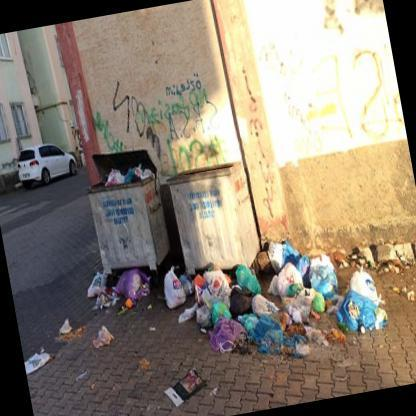Garbage: (146, 254, 278, 333), (208, 296, 282, 365), (338, 263, 390, 334), (269, 331, 320, 392), (74, 264, 142, 302), (304, 253, 340, 303), (266, 239, 301, 289), (290, 278, 326, 324), (100, 156, 152, 186), (92, 311, 124, 352), (53, 298, 86, 334), (23, 337, 55, 370)
